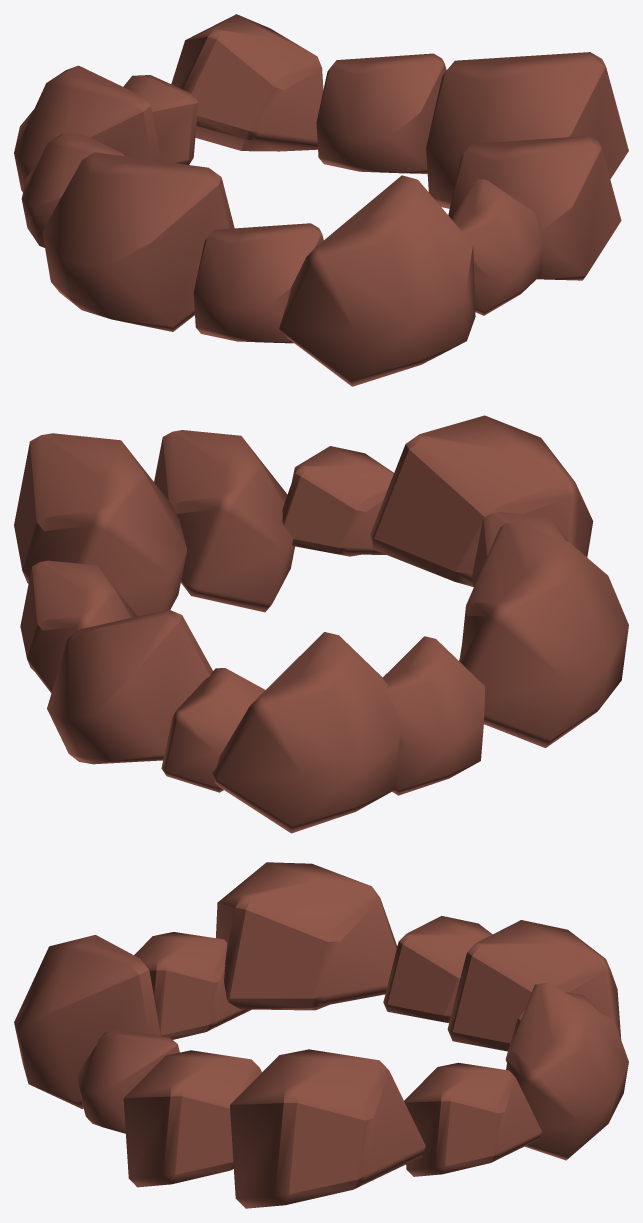
Rendered from stones.fbx.
The picture shows the model from 3 angles, top to bottom: view 1: azimuth 30°, elevation 25°; view 2: azimuth 150°, elevation 25°; view 3: azimuth 270°, elevation 25°; orthographic projection. The views are drawn at different scales.
Parts seen in each view (by area): view 1: stone; view 2: stone; view 3: stone.
Part boxes in pixels (box(x1,y1,x2,y2)): stone: box(14, 14, 628, 386); stone: box(14, 415, 628, 833); stone: box(14, 862, 628, 1208).
Bounding box in the file's own units: 5.32 × 1.49 × 5.26.
